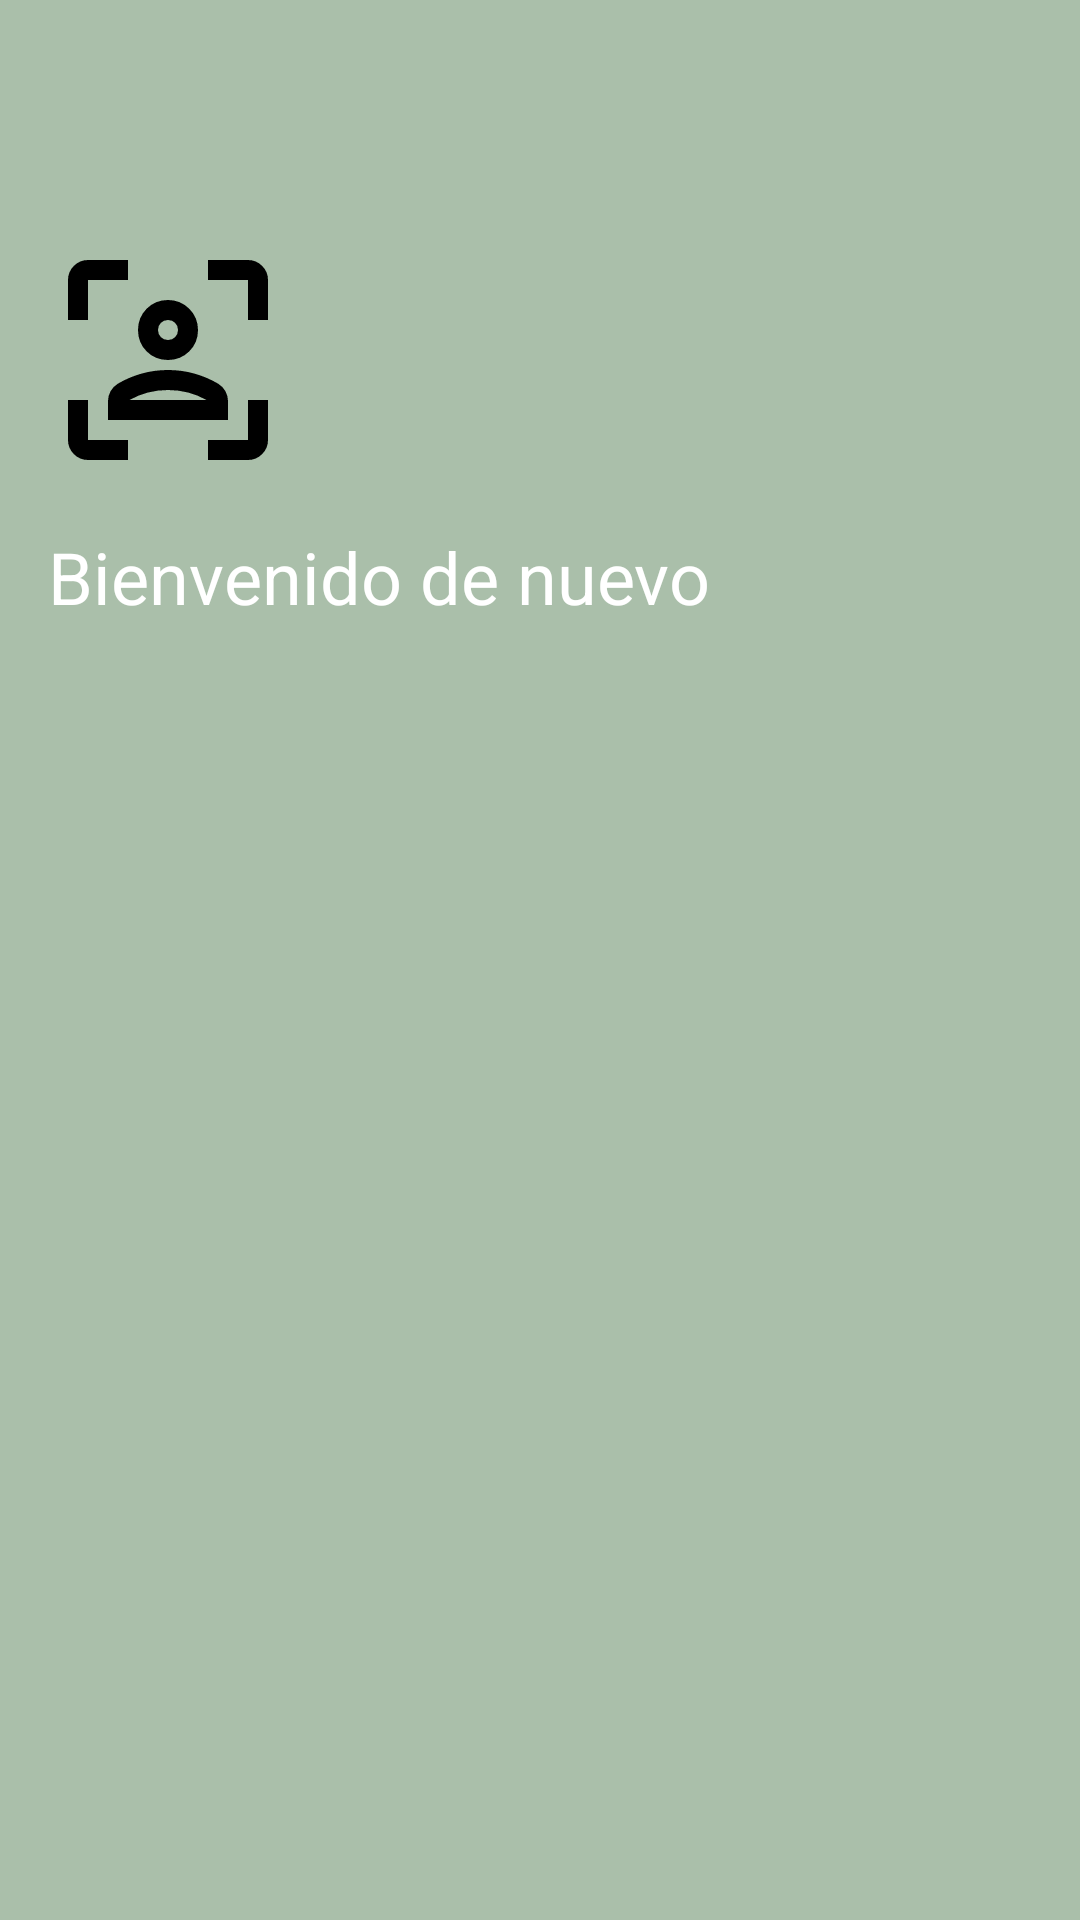

Icon click points for this 1080x1920 phone screenshot, format [x,y]:
usuario: [168,360]
